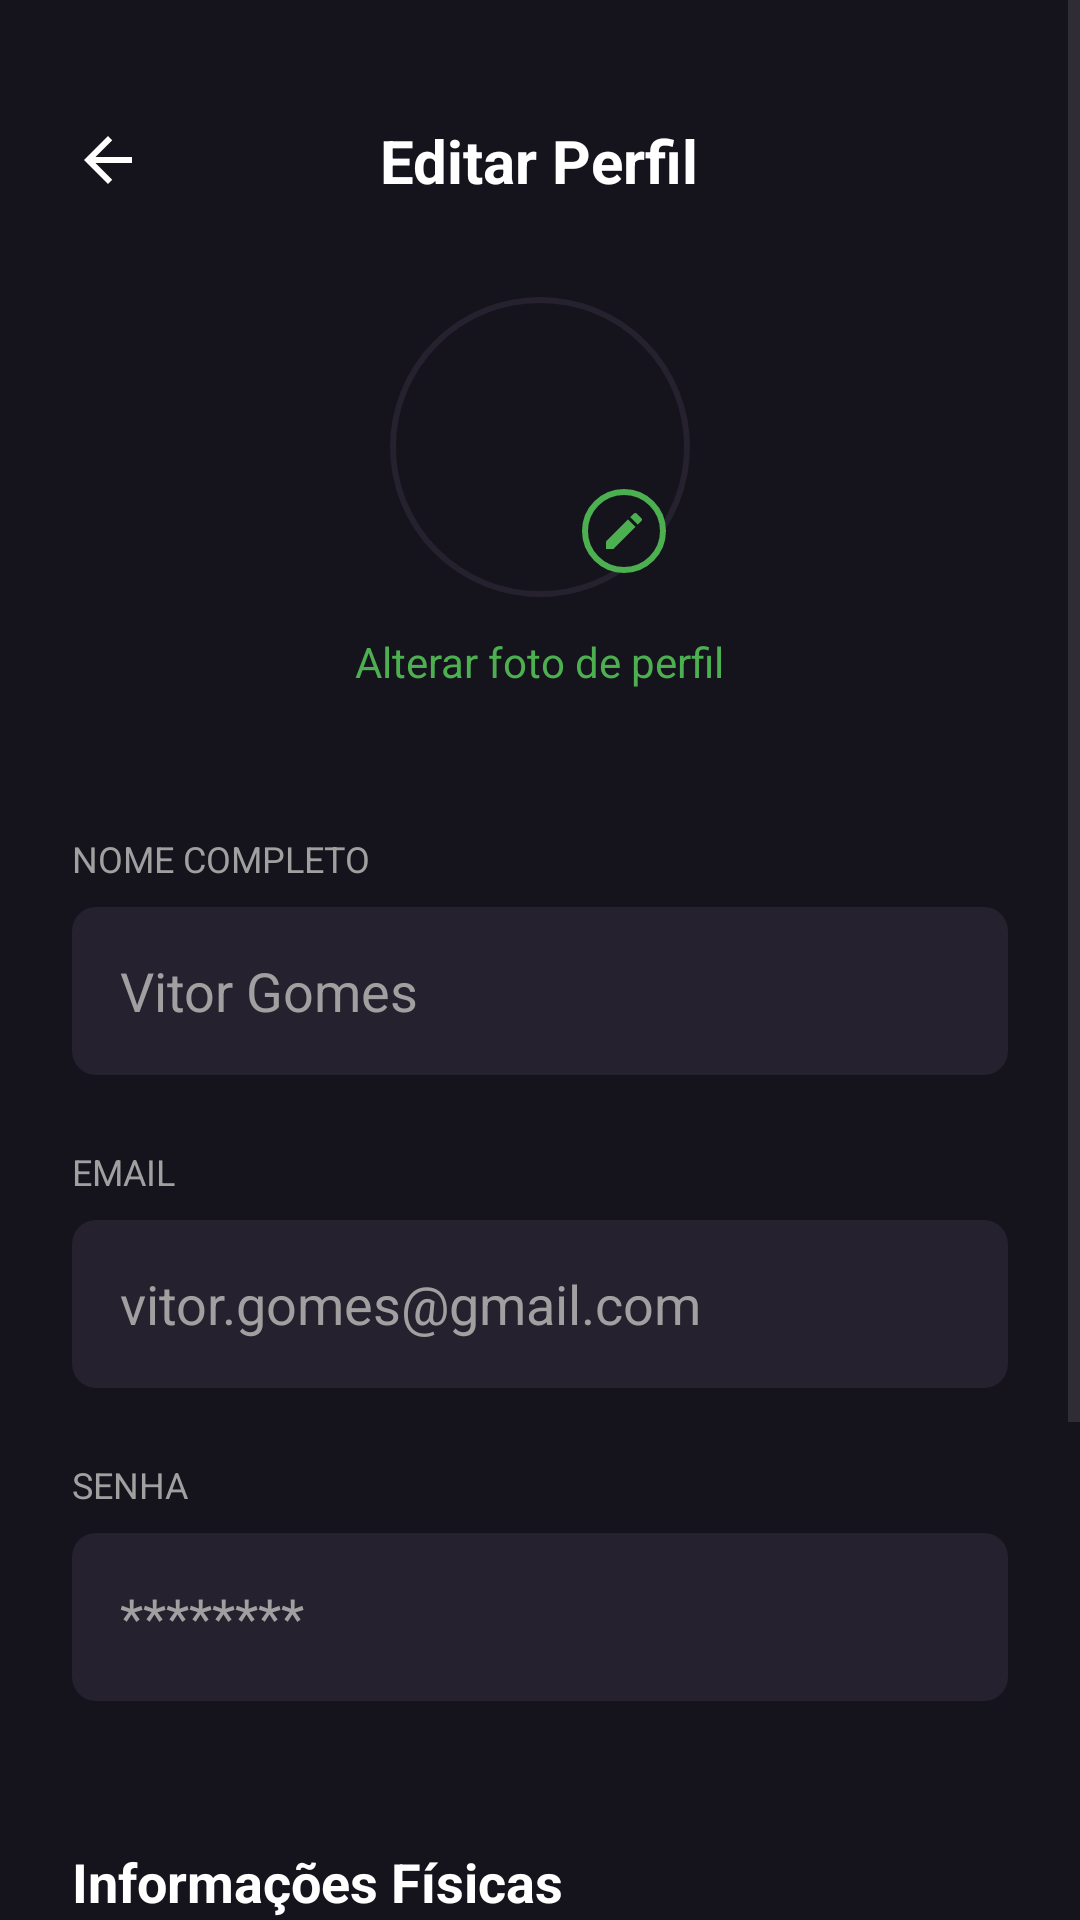

Screen size 1080px×1920px. Icon name, then its box in pixels as rect(x1, y1, x2, y2):
arrow back: rect(84, 136, 132, 184)
edit: rect(582, 489, 666, 573)
